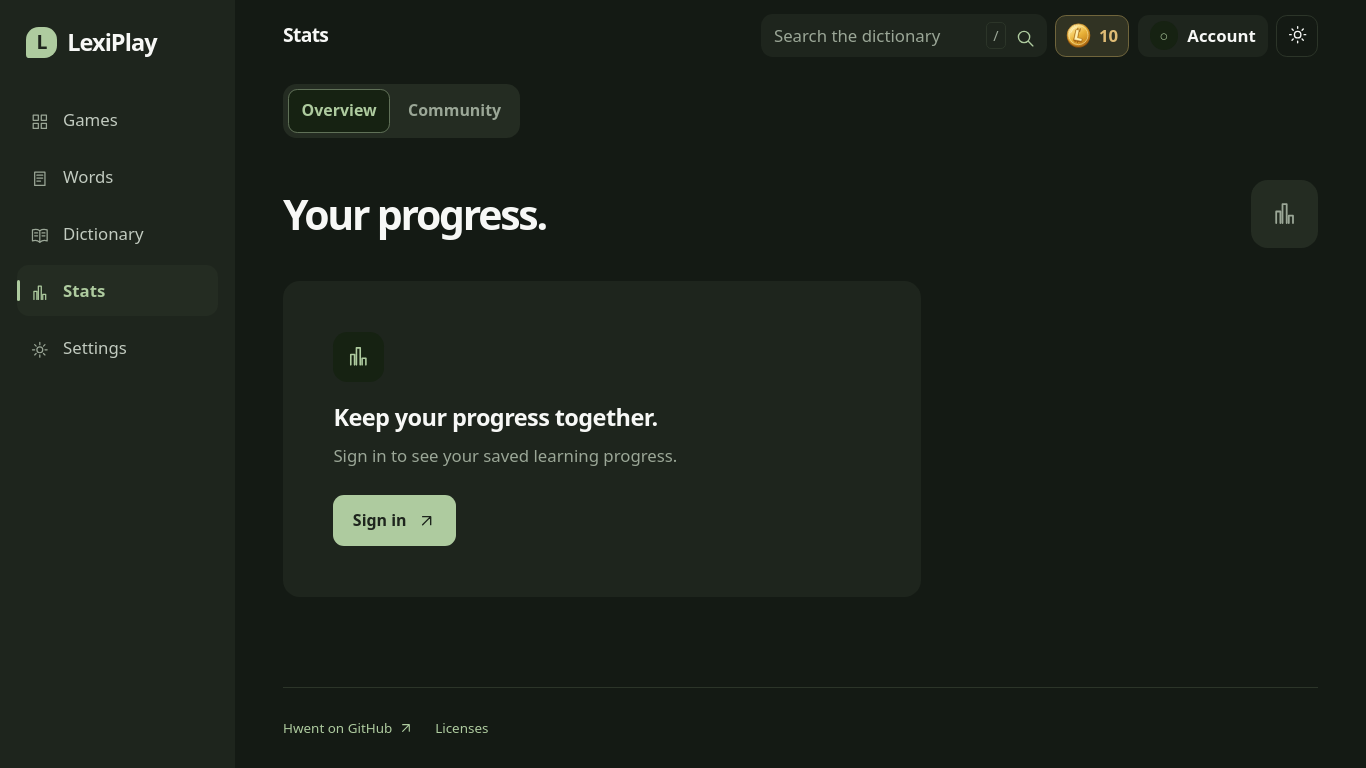
Test: takes guests from their progress empty state to sign in
The image size is (1366, 768).
Click the button "Sign in" at (395, 521), box [333, 495, 456, 546]
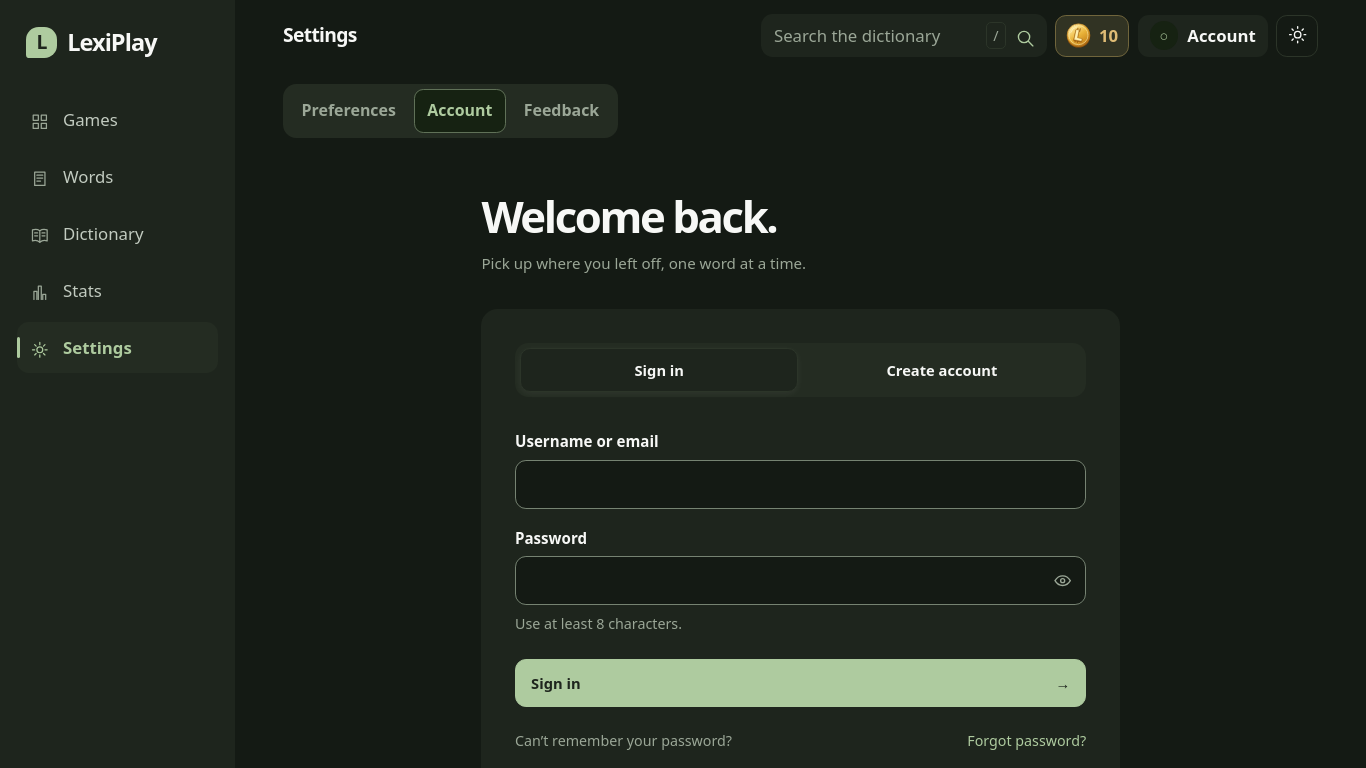
expect the field labelled "Username or email" is shown: met, box [515, 460, 1086, 509]
